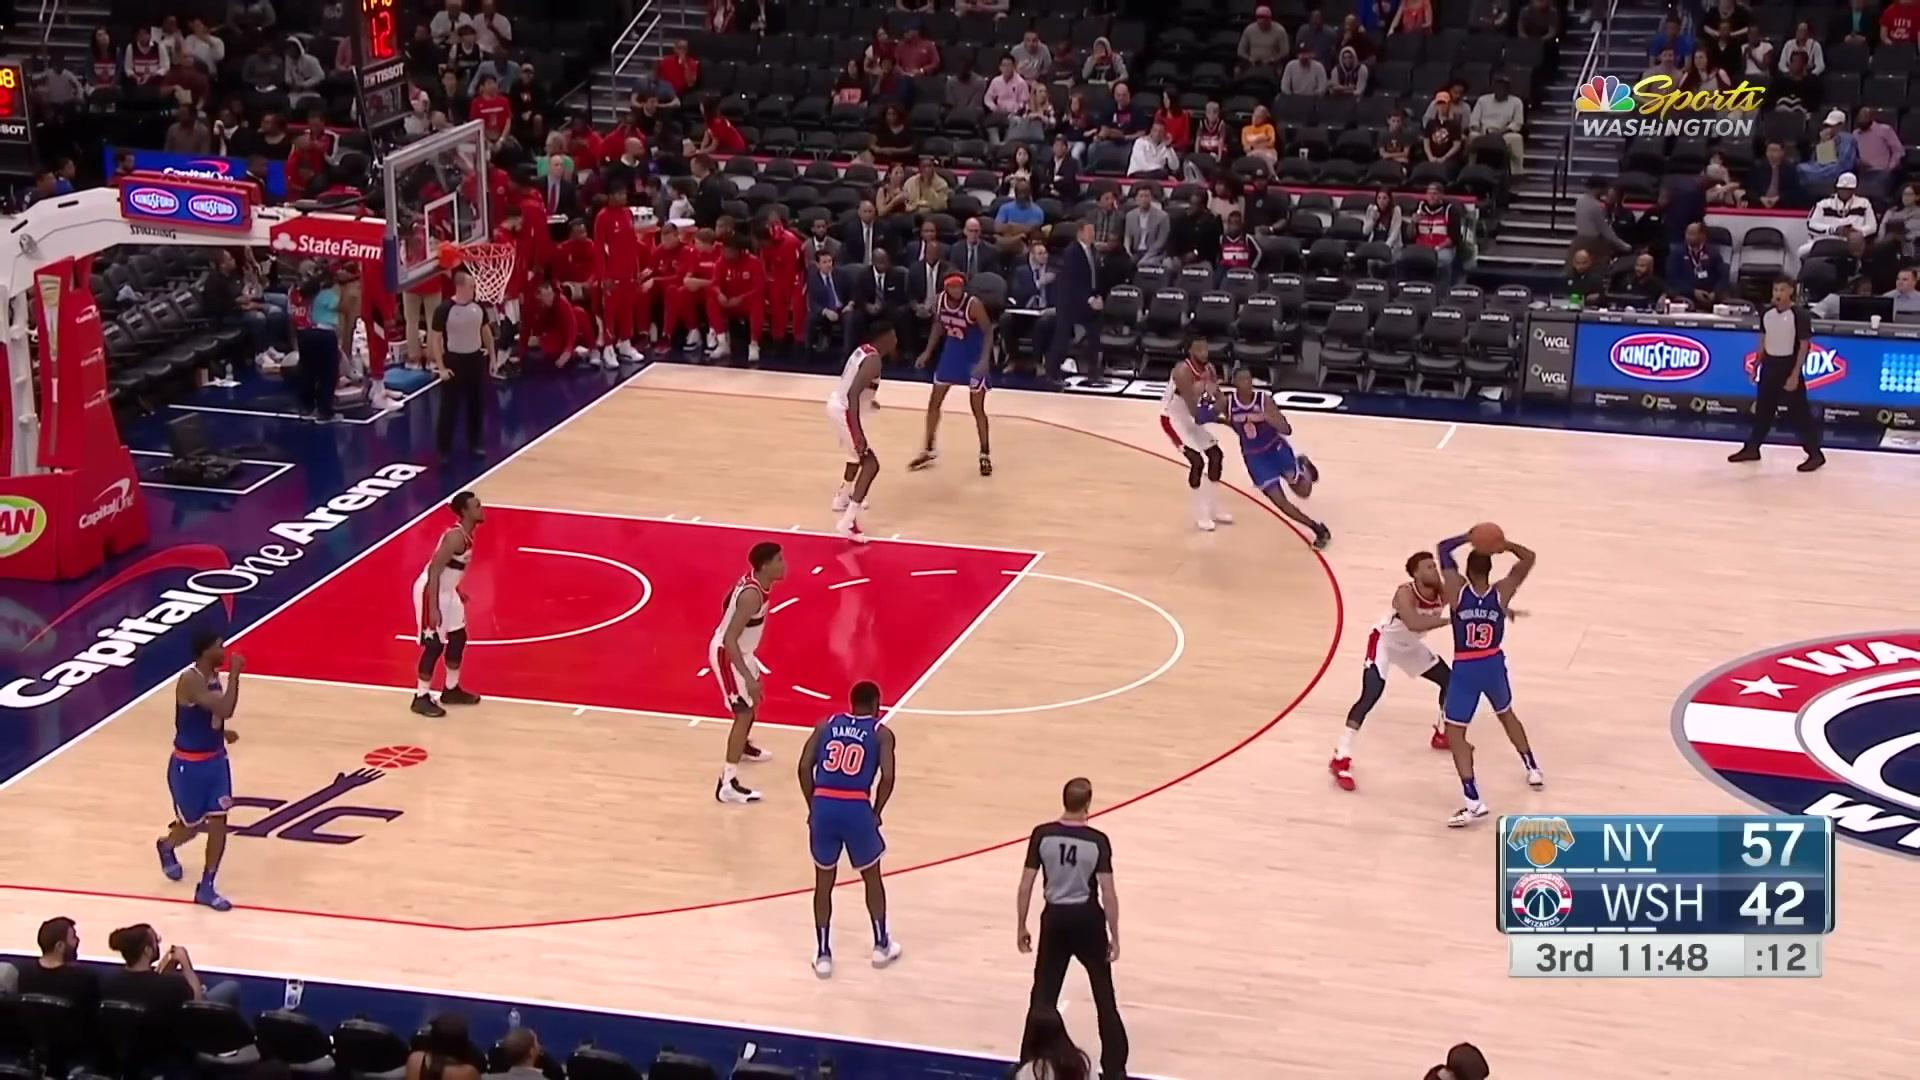foul: (1321, 485, 1553, 818)
